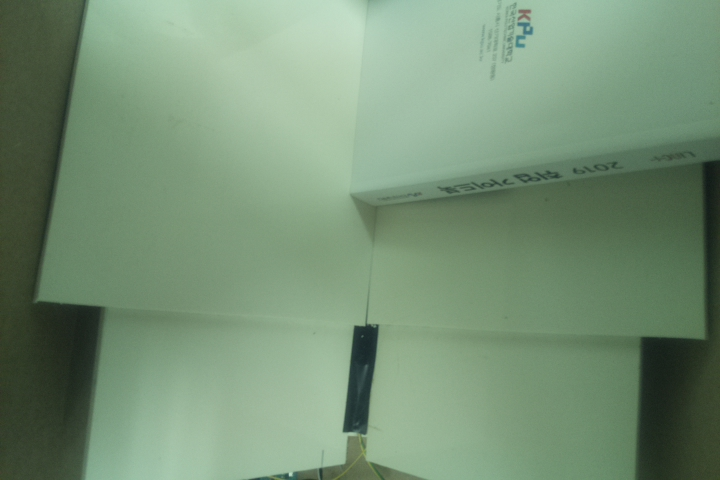book: (348, 1, 719, 211)
